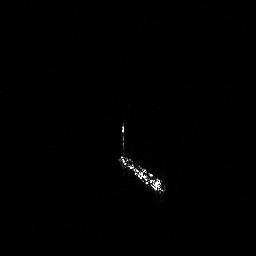ship: (115, 120, 170, 199)
